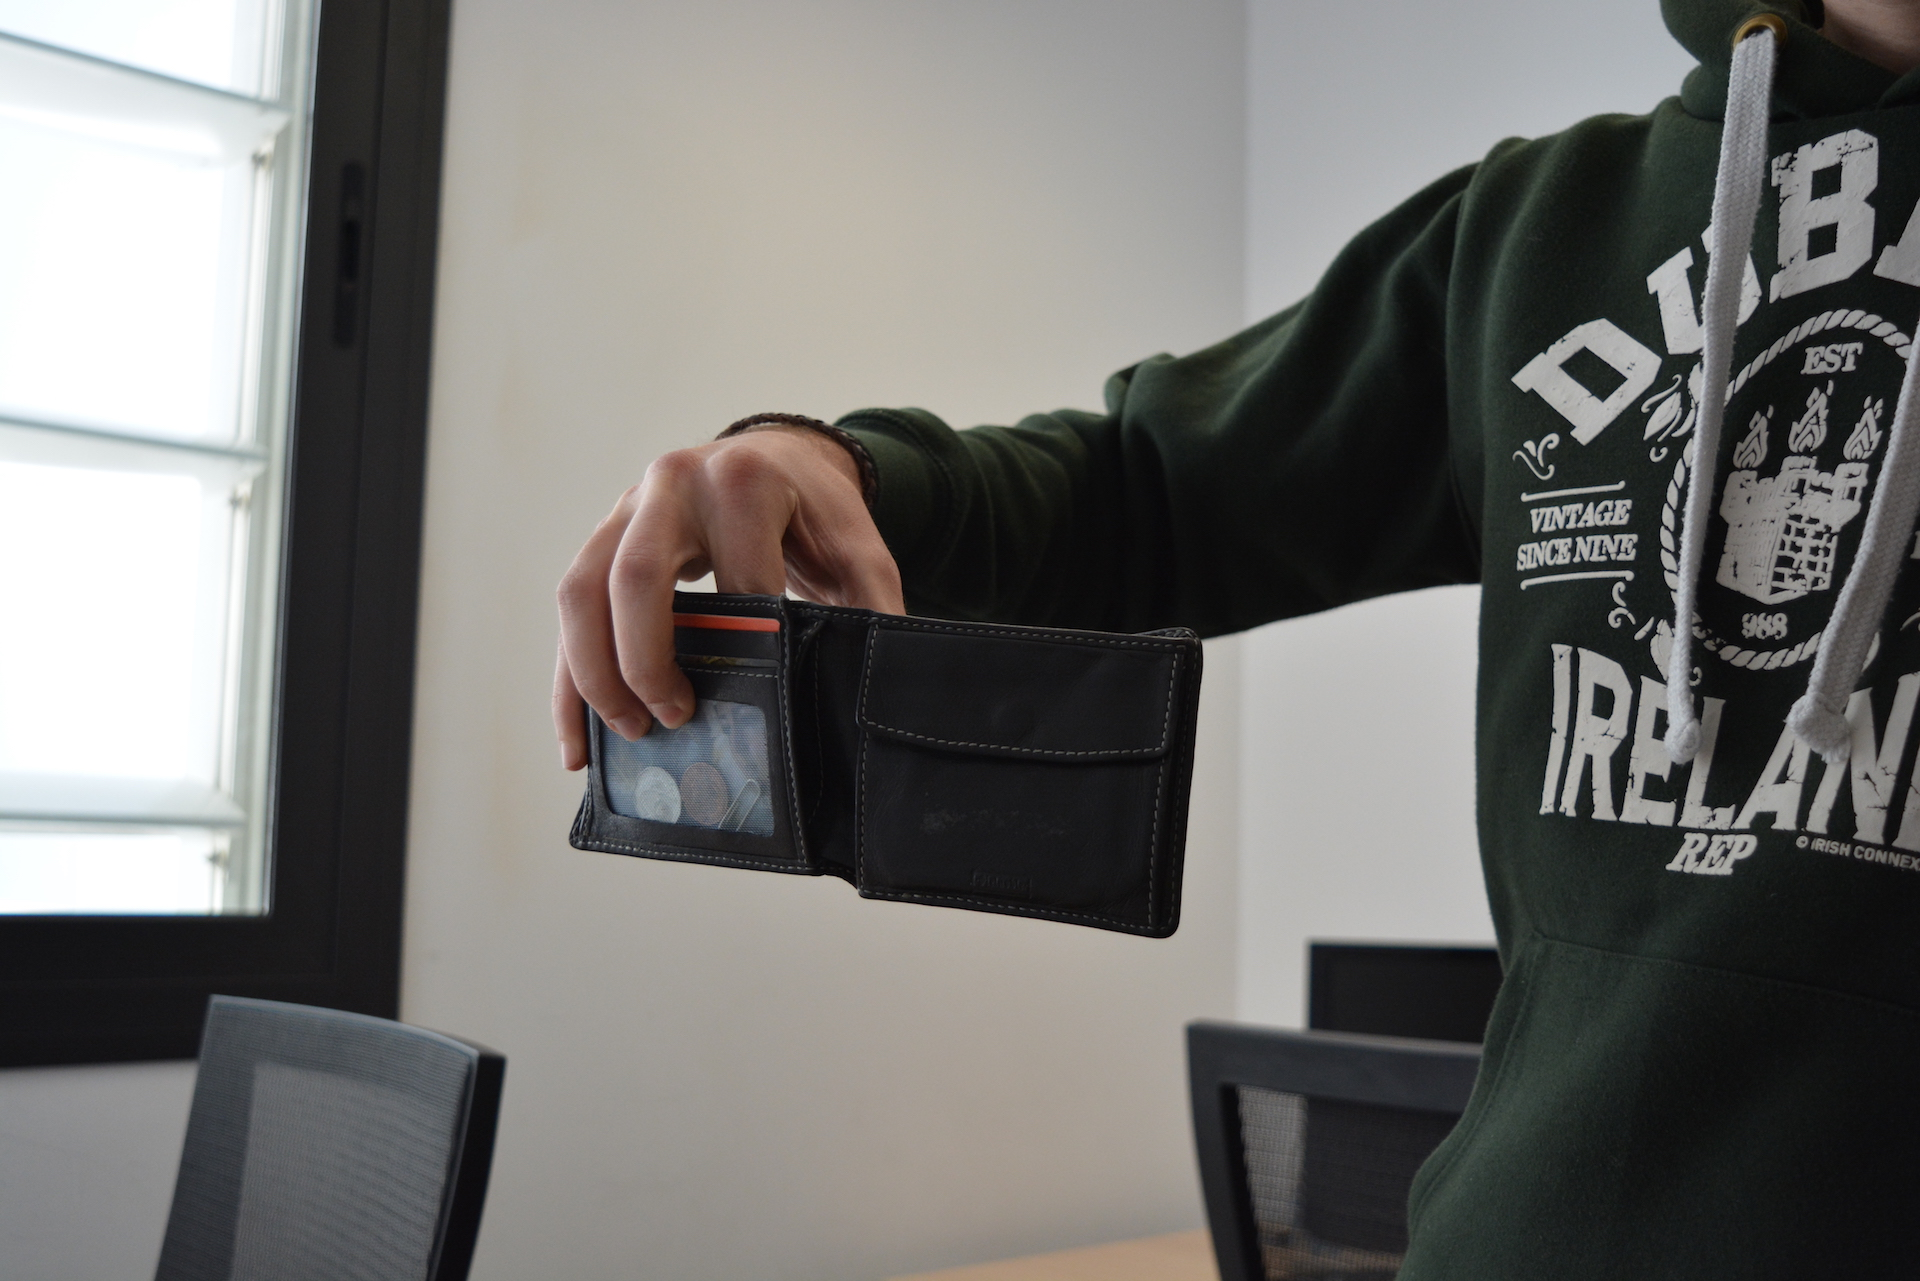monedero: (566, 583, 1205, 944)
